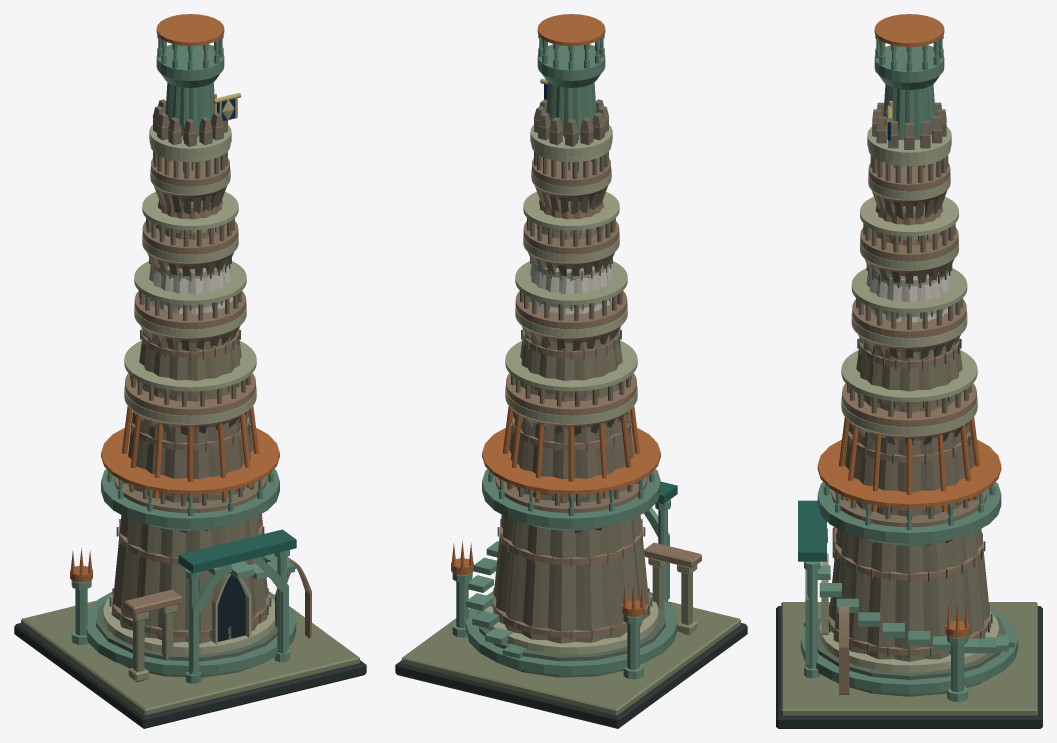
3 views of the same model, side by side, from view 1: azimuth 30°, elevation 25°; view 2: azimuth 150°, elevation 25°; view 3: azimuth 270°, elevation 25° (orthographic). The views are drawn at different scales.
Parts seen in each view (by area): view 1: archer_tower_L7_0, archer_tower_L7_1; view 2: archer_tower_L7_0, archer_tower_L7_1; view 3: archer_tower_L7_0, archer_tower_L7_1.
Part boxes in pixels (x1,y1,x2,y2): archer_tower_L7_0: (14, 35, 366, 728); archer_tower_L7_1: (70, 14, 279, 582); archer_tower_L7_0: (395, 35, 747, 728); archer_tower_L7_1: (451, 14, 660, 616); archer_tower_L7_0: (776, 35, 1042, 728); archer_tower_L7_1: (817, 14, 1001, 637).
Bounding box in the file's own units: 3.6 × 9.6 × 3.6.
